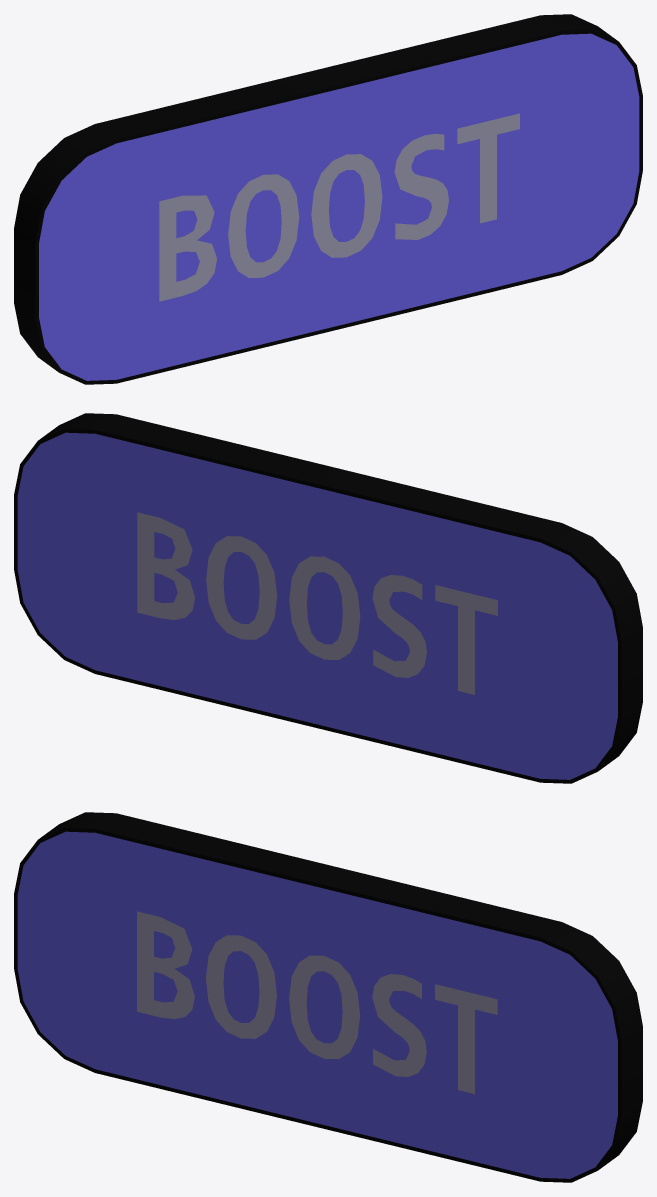
The model's file is SM_Pickups_Boost.fbx.
The picture shows the model from 3 angles, top to bottom: view 1: azimuth 30°, elevation 25°; view 2: azimuth 150°, elevation 25°; view 3: azimuth 330°, elevation 25°; orthographic projection.
Visible parts, largest first — view 1: Boost; view 2: Boost; view 3: Boost.
Boxes of the visible parts, left/top/right/bottom form: Boost: left=14, top=14, right=642, bottom=384; Boost: left=14, top=413, right=642, bottom=783; Boost: left=14, top=812, right=642, bottom=1182.
Size of the model in its own units: 234 by 89.89 by 14.73.
